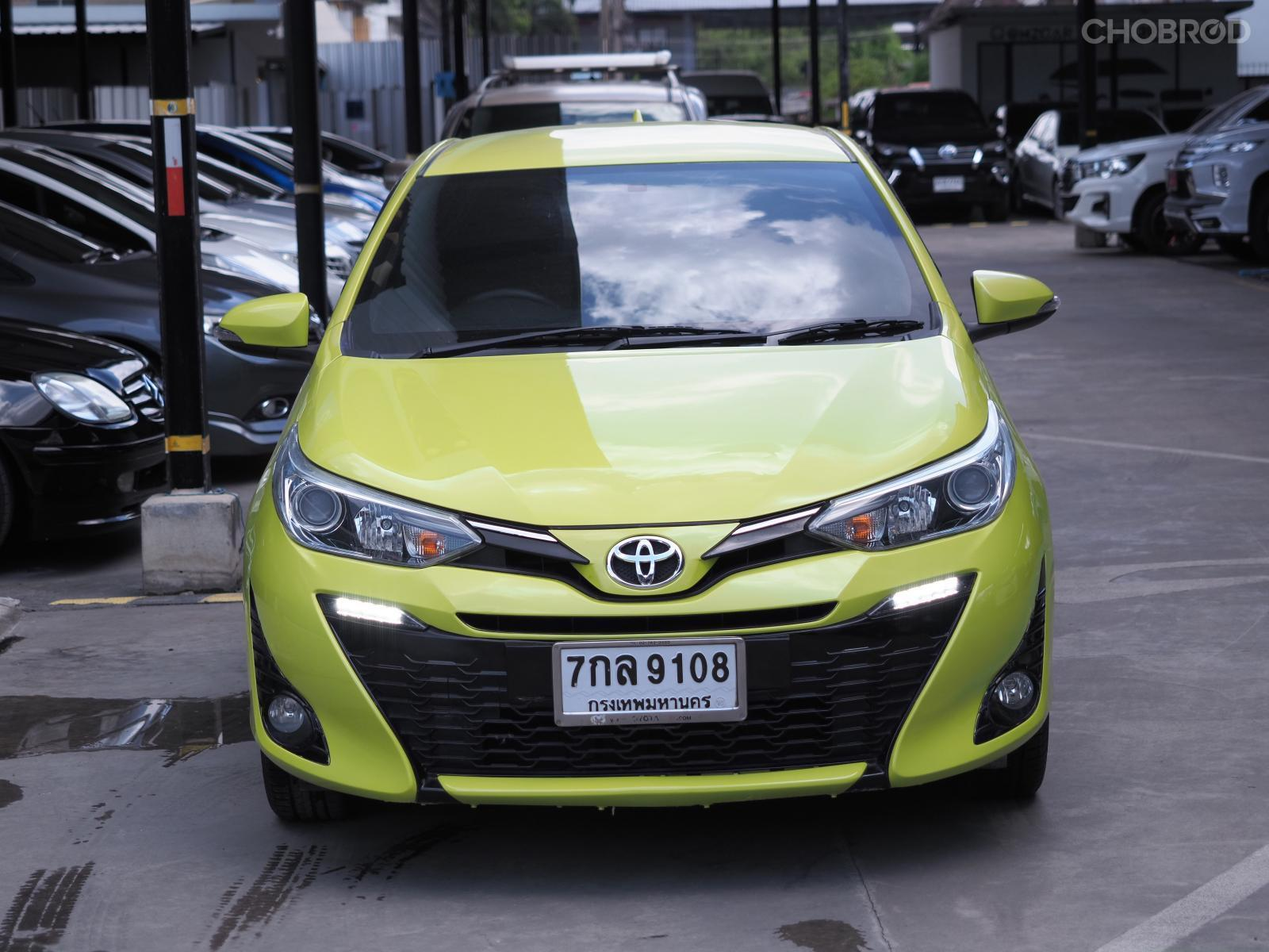license-plate: (549, 632, 752, 727)
